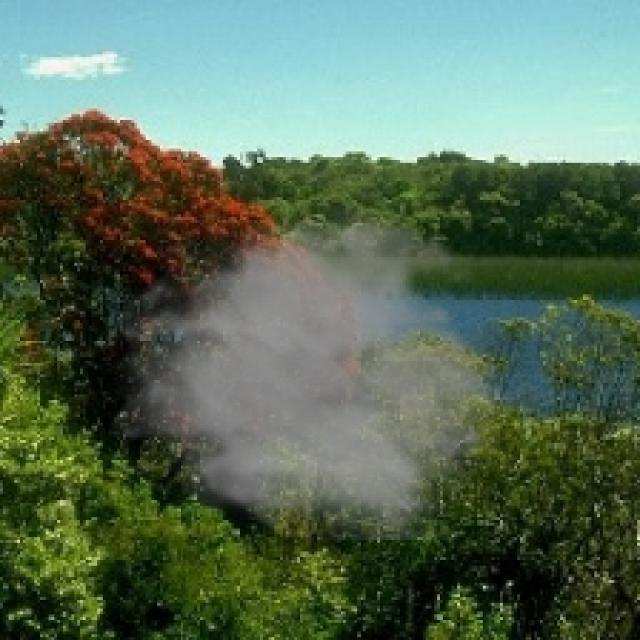Smoke: (105, 185, 518, 540)
